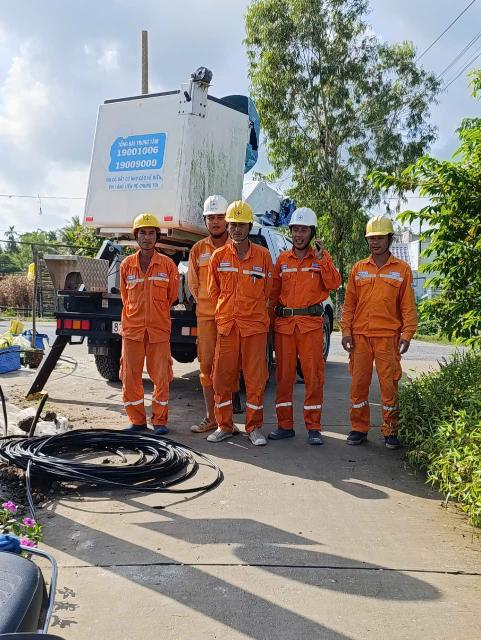harness: (259, 299, 337, 323)
helmet: (363, 210, 399, 244), (128, 208, 167, 234), (226, 196, 257, 228), (198, 192, 229, 221), (286, 206, 323, 230)
shoes: (198, 423, 236, 448), (262, 426, 305, 443), (344, 421, 368, 448), (118, 421, 153, 437), (379, 431, 402, 452), (306, 428, 331, 447), (146, 421, 172, 436), (193, 416, 219, 431), (251, 428, 268, 448)
